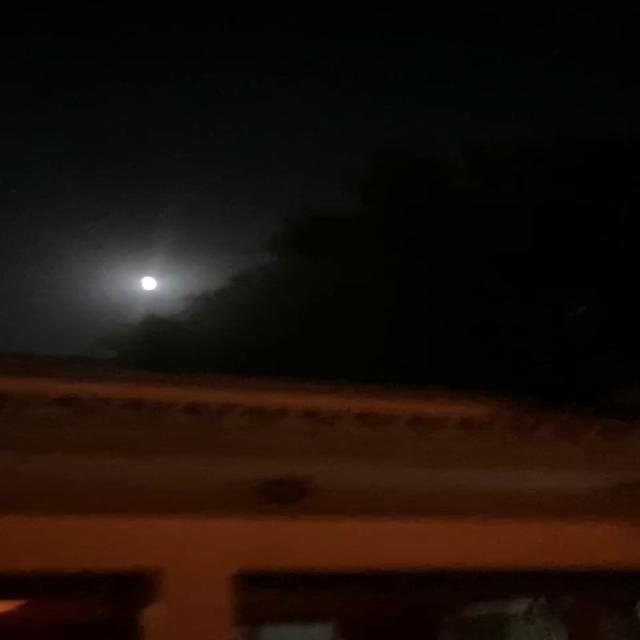moon: (134, 267, 166, 302)
